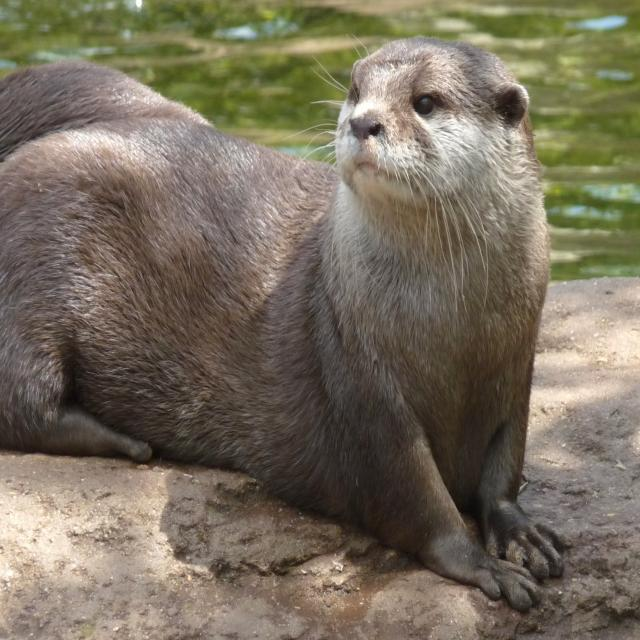otter: (1, 37, 563, 608)
